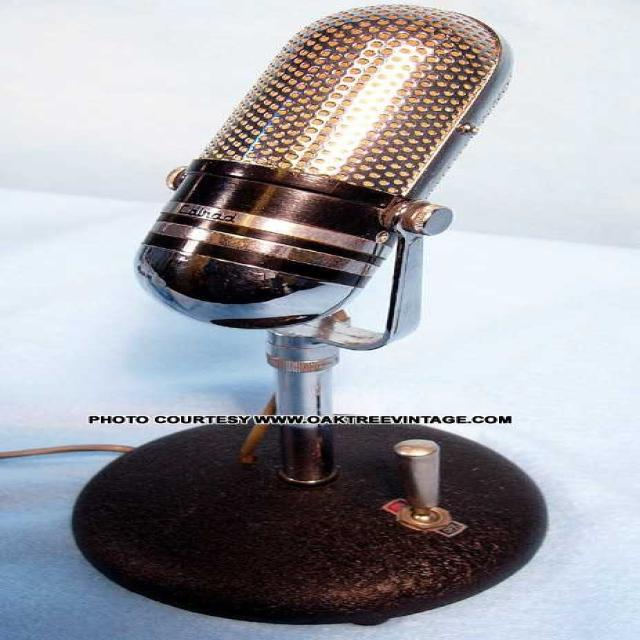microphone: (62, 5, 551, 618)
